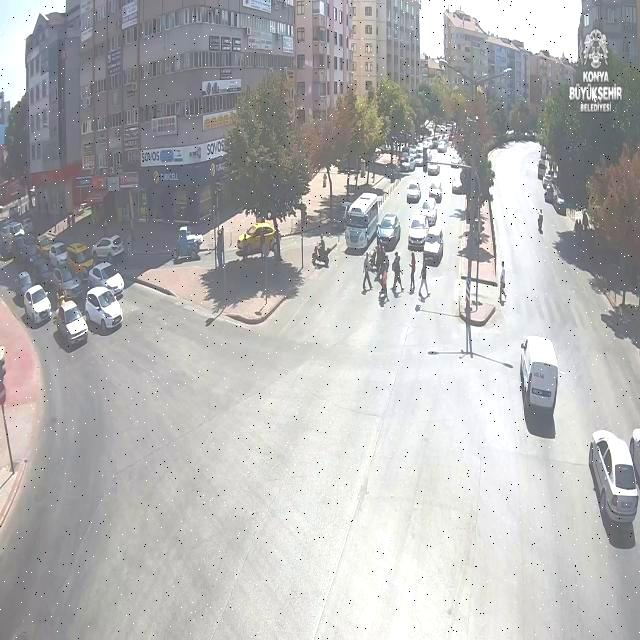Bus: (344, 192, 382, 250)
Car: (586, 428, 640, 522), (84, 286, 123, 331), (236, 220, 278, 258), (56, 299, 88, 345), (86, 262, 125, 298), (23, 284, 53, 326), (53, 266, 84, 300), (65, 243, 94, 275), (377, 213, 401, 249), (92, 235, 125, 260), (422, 228, 443, 265), (408, 215, 428, 250), (47, 241, 69, 267), (420, 198, 438, 225), (36, 236, 55, 258), (406, 182, 422, 202), (429, 181, 443, 202), (400, 154, 416, 172), (428, 163, 440, 175)
Van: (520, 337, 560, 413)
